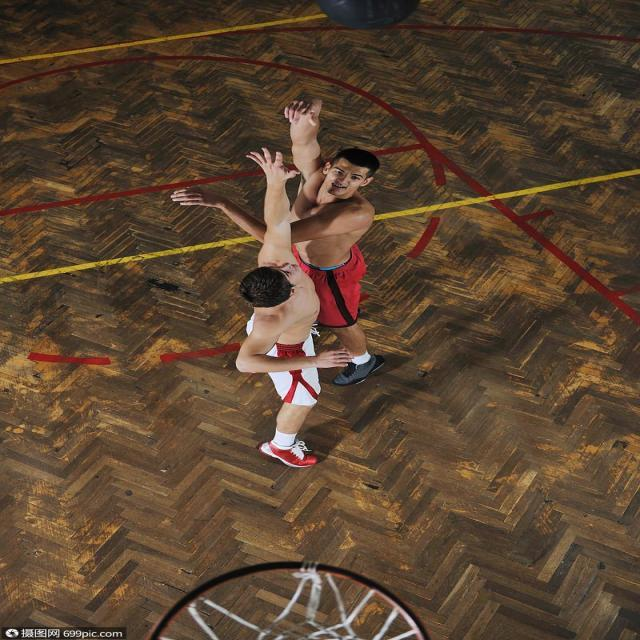rim: (319, 0, 421, 27)
